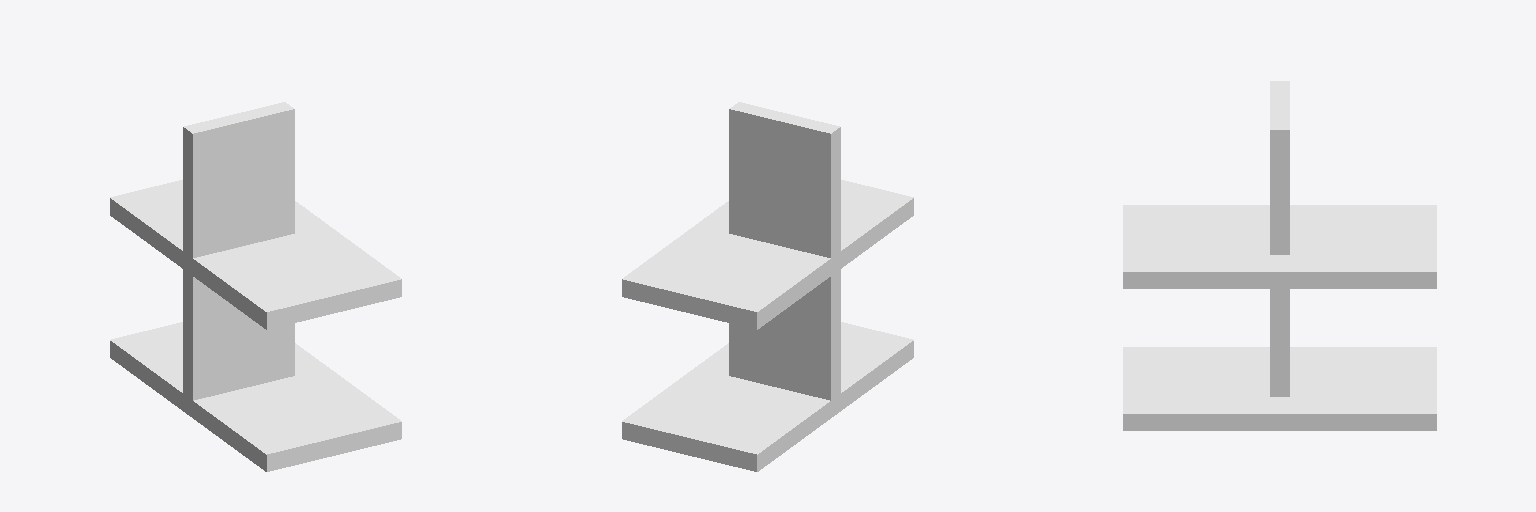
Rendered from shelf.obj.
The picture shows the model from 3 angles: view 1: azimuth 30°, elevation 25°; view 2: azimuth 150°, elevation 25°; view 3: azimuth 270°, elevation 25°; orthographic projection.
Parts seen in each view (by area): view 1: shelf_bottom, shelf_top; view 2: shelf_bottom, shelf_top; view 3: shelf_bottom, shelf_top.
Boxes of the visible parts, box(x1,y1,x2,y2) form: shelf_bottom: box(110, 180, 401, 471); shelf_top: box(183, 102, 294, 257); shelf_bottom: box(622, 180, 913, 471); shelf_top: box(729, 102, 840, 257); shelf_bottom: box(1123, 205, 1436, 430); shelf_top: box(1270, 81, 1289, 254).
Bounding box in the file's own units: 0.5 × 1 × 1.